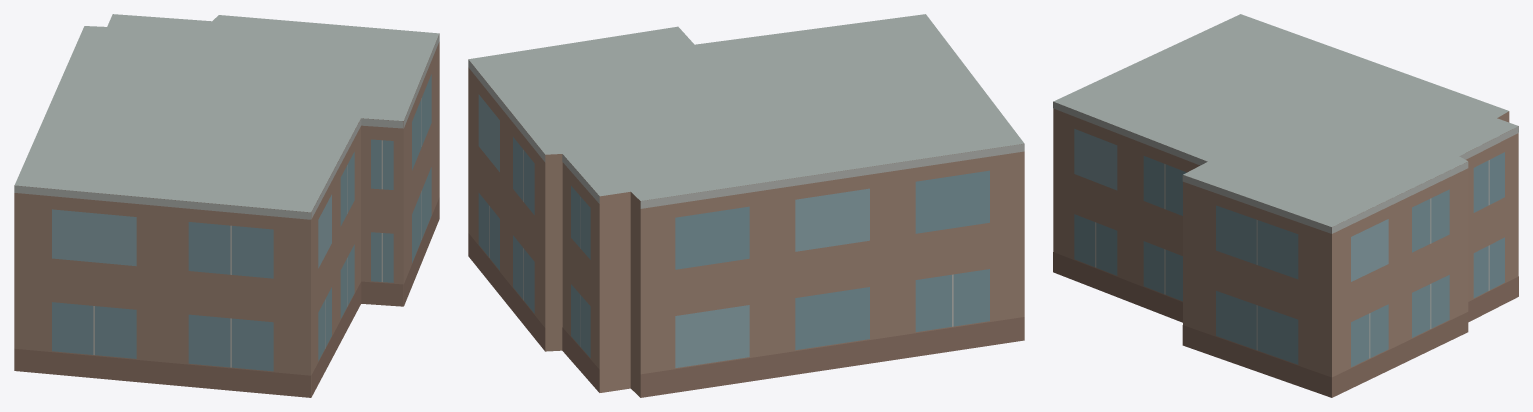
The model's file is survey-upis-32929817.glb.
The picture shows the model from 3 angles, left to right: view 1: azimuth 30°, elevation 25°; view 2: azimuth 150°, elevation 25°; view 3: azimuth 270°, elevation 25°; orthographic projection. The views are drawn at different scales.
Visible parts, largest first — view 1: survey-upis-32929817.tmp; view 2: survey-upis-32929817.tmp; view 3: survey-upis-32929817.tmp.
Part boxes in pixels (left/top/right/bottom): survey-upis-32929817.tmp: left=14, top=14, right=439, bottom=397; survey-upis-32929817.tmp: left=468, top=14, right=1024, bottom=397; survey-upis-32929817.tmp: left=1053, top=14, right=1518, bottom=397.
Size of the model in its own units: 16.35 by 6.1 by 15.09.
